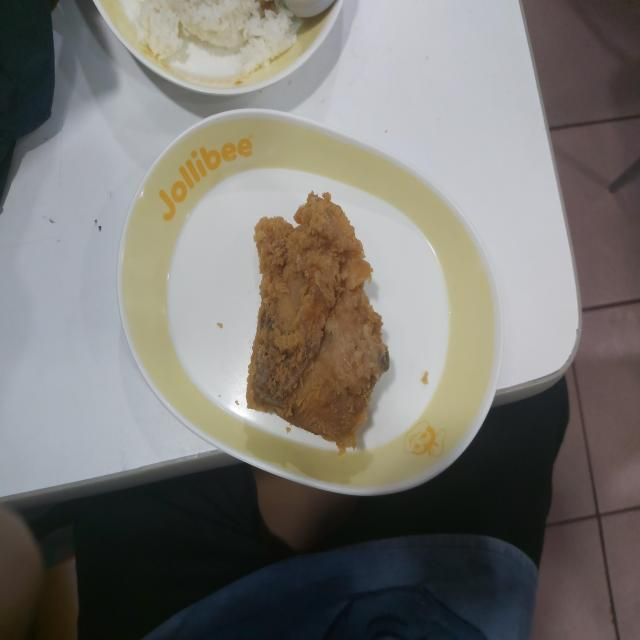Chicken -Fried Chicken-: (227, 164, 423, 520)
